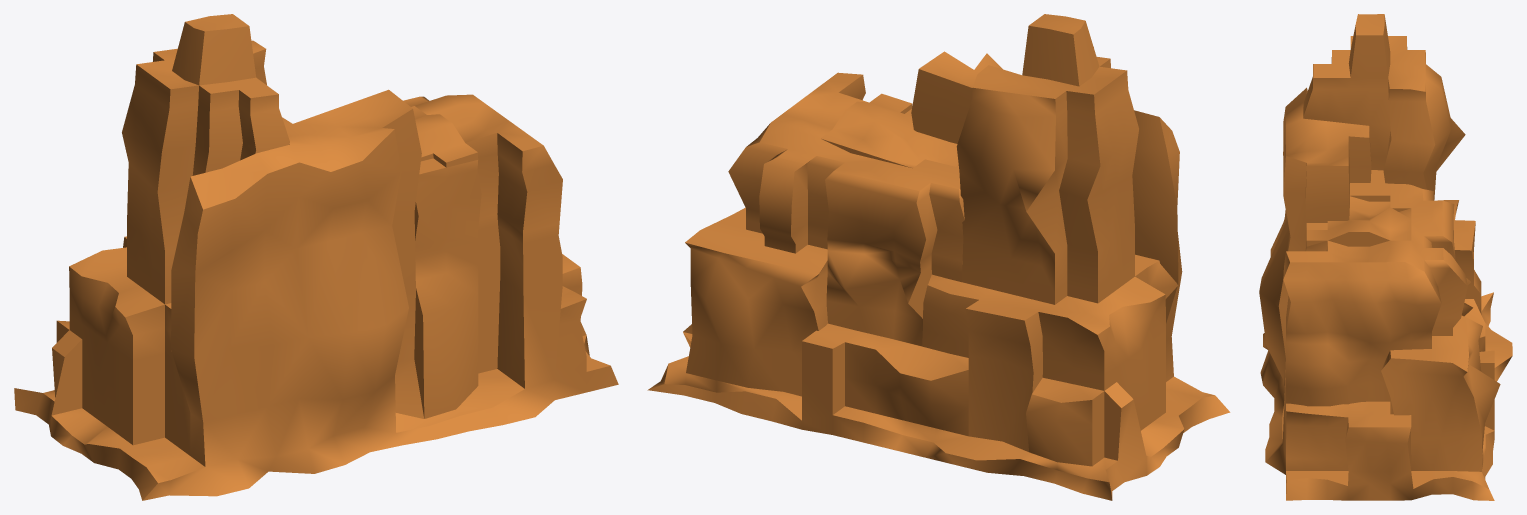
The model's file is clifBig_1.fbx.
3 renders of one model, left to right at view 1: azimuth 30°, elevation 25°; view 2: azimuth 150°, elevation 25°; view 3: azimuth 270°, elevation 25°, orthographic. The views are drawn at different scales.
Visible parts, largest first — view 1: pPlane1; view 2: pPlane1; view 3: pPlane1.
Boxes of the visible parts, box(x1,y1,x2,y2) form: pPlane1: box(14, 14, 618, 500); pPlane1: box(647, 14, 1230, 500); pPlane1: box(1259, 14, 1512, 500).
Bounding box in the file's own units: 36.83 × 29.57 × 19.99.
